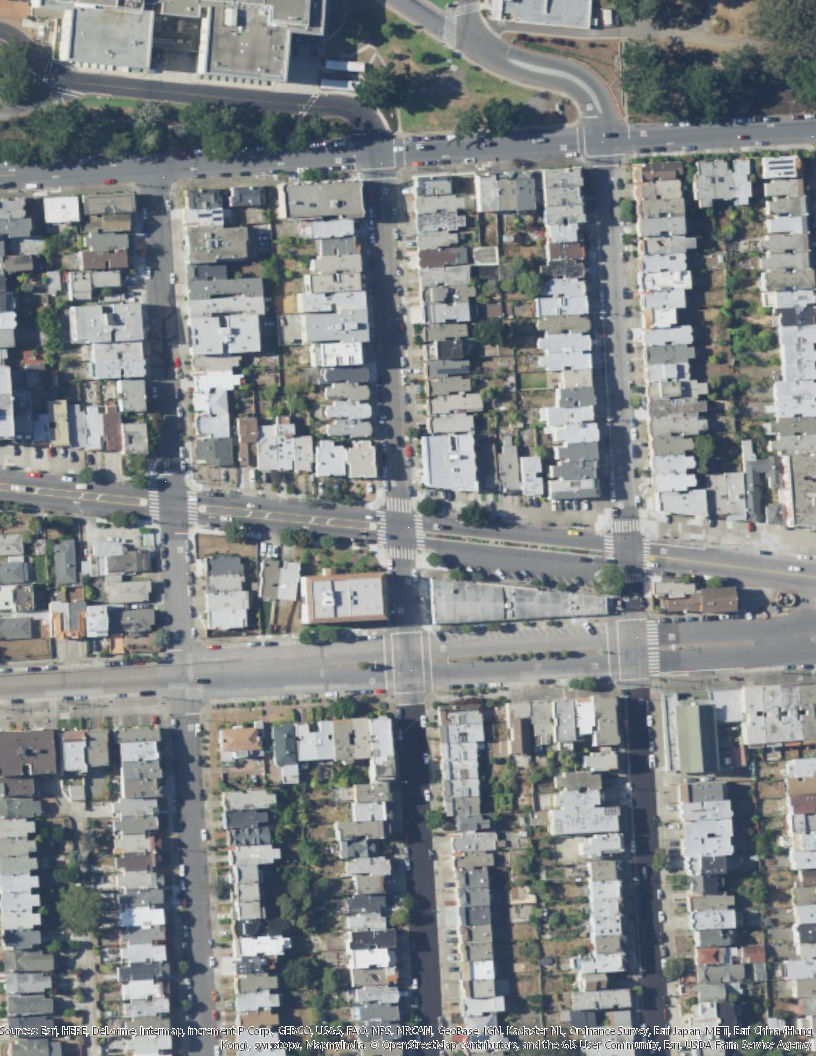zebracross: (643, 620, 662, 672), (412, 515, 428, 551), (610, 519, 640, 535), (386, 498, 415, 514), (376, 510, 388, 547), (147, 490, 161, 521), (386, 547, 416, 560), (641, 538, 653, 569), (188, 491, 199, 523), (603, 534, 616, 559)
